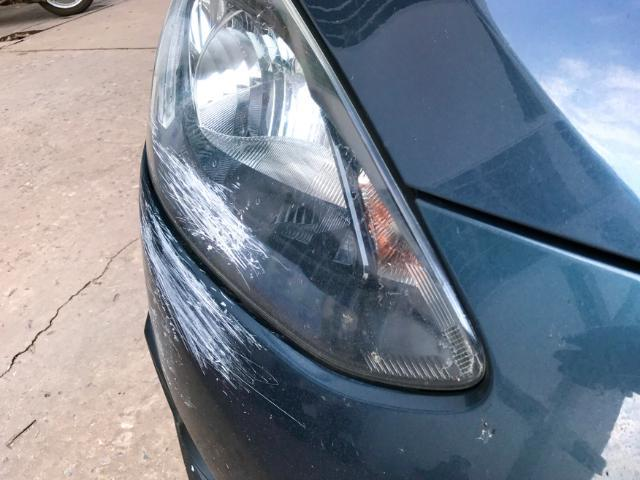Bumper: (130, 201, 284, 460)
